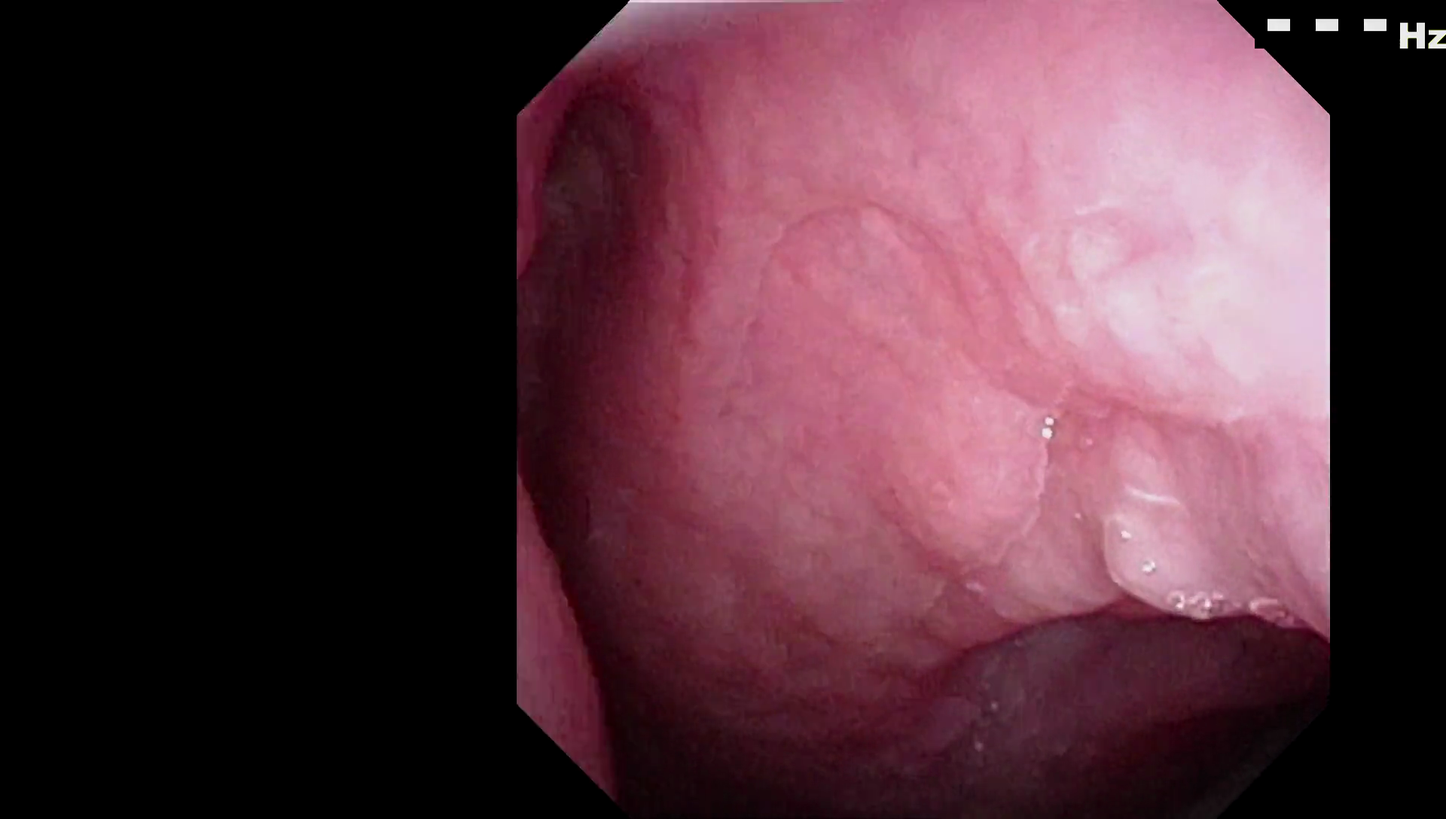close_wall: (910, 129, 1317, 485)
next: (542, 631, 822, 819), (1102, 647, 1320, 805)
